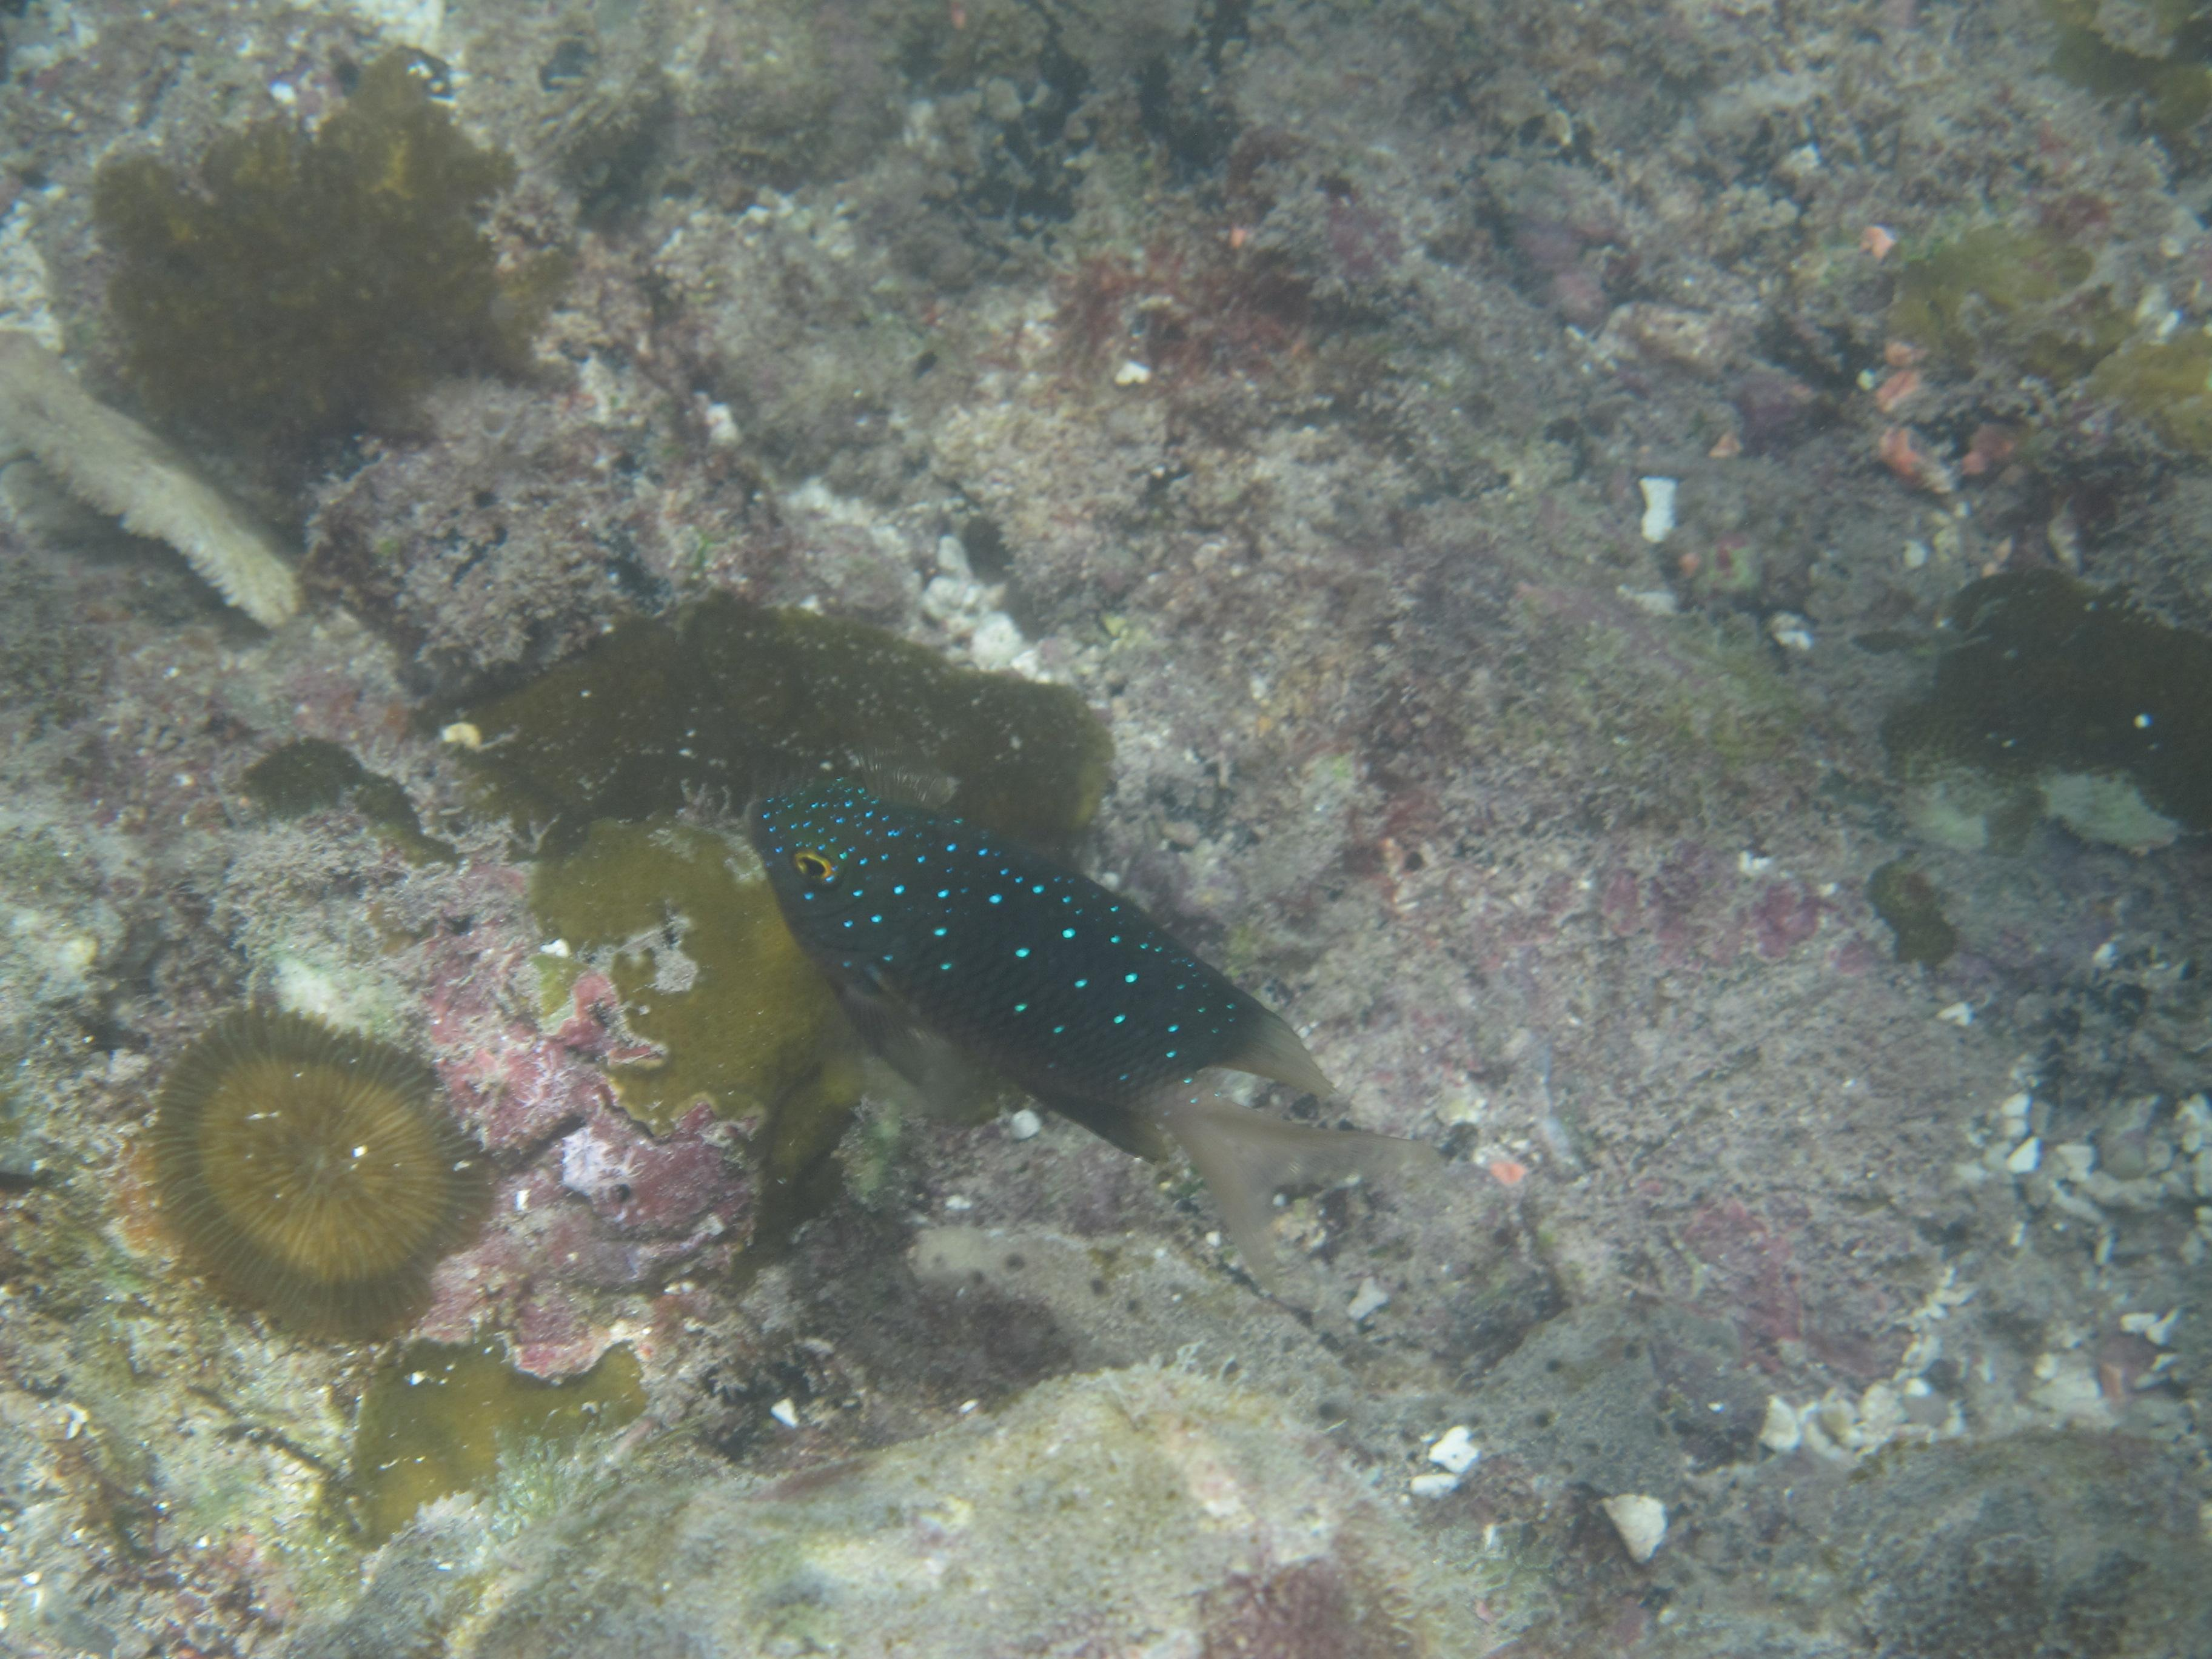Fish: (728, 701, 1400, 1328)
